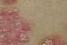plaque psoriasis: (0, 6, 31, 45), (0, 0, 54, 4)
